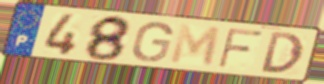4: (42, 12, 78, 57)
8: (85, 14, 134, 63)
D: (259, 30, 305, 75)
F: (215, 26, 266, 70)
G: (130, 21, 175, 63)
M: (168, 22, 223, 69)
